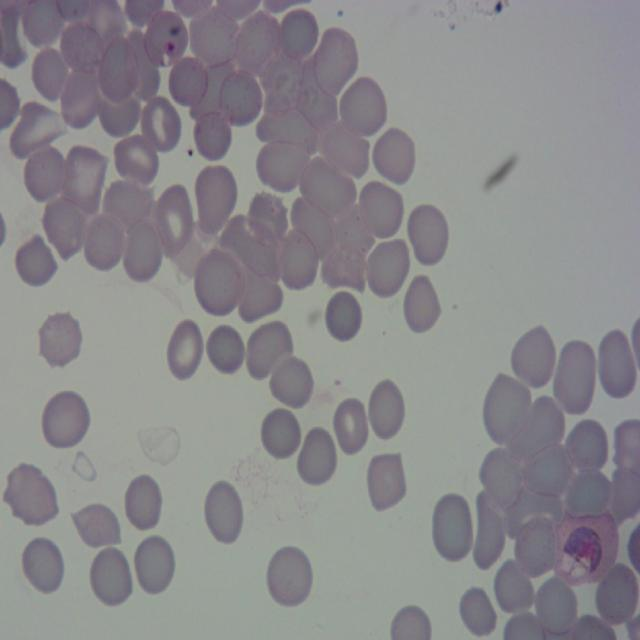leukocyte: (507, 394, 567, 463), (1, 459, 59, 528), (483, 371, 534, 447), (192, 244, 242, 319), (298, 153, 355, 216), (193, 162, 240, 238), (220, 214, 276, 277), (295, 53, 339, 132), (430, 491, 476, 564), (64, 142, 111, 213), (314, 24, 361, 94), (120, 212, 165, 285), (337, 76, 388, 140), (253, 108, 321, 156), (152, 185, 194, 262), (503, 486, 565, 538), (470, 490, 509, 572), (552, 342, 595, 416), (510, 324, 558, 390), (245, 319, 295, 382), (480, 444, 530, 507), (363, 237, 412, 301), (9, 102, 63, 160), (40, 387, 90, 449), (266, 544, 314, 608), (596, 328, 638, 401), (189, 8, 240, 68), (356, 179, 405, 241), (234, 262, 284, 322), (202, 478, 246, 546), (594, 564, 640, 629), (276, 225, 320, 292), (88, 545, 134, 609), (513, 515, 559, 579), (324, 116, 369, 181), (259, 49, 304, 114), (255, 140, 309, 194), (406, 202, 450, 268), (42, 199, 88, 262), (236, 8, 279, 75), (292, 192, 335, 259), (19, 535, 66, 596), (22, 144, 70, 203), (189, 59, 237, 118), (370, 126, 417, 186), (137, 95, 183, 156), (112, 130, 161, 187), (365, 376, 406, 444), (295, 425, 339, 488), (525, 442, 574, 498), (534, 575, 578, 637), (82, 210, 126, 272), (165, 317, 206, 383), (59, 68, 102, 130), (99, 78, 142, 140), (124, 28, 160, 102), (401, 272, 442, 336), (12, 231, 58, 288), (102, 180, 155, 229), (38, 312, 82, 371), (122, 473, 164, 534), (135, 535, 177, 596), (276, 7, 320, 65), (366, 449, 409, 508), (73, 502, 123, 552), (100, 35, 137, 102), (220, 71, 263, 128), (204, 323, 247, 378), (493, 559, 535, 615), (332, 396, 371, 456), (565, 422, 608, 476), (321, 244, 368, 293), (323, 288, 364, 344), (30, 46, 70, 102), (61, 21, 103, 73), (334, 204, 375, 257), (247, 190, 288, 242), (458, 585, 498, 638), (566, 471, 612, 517), (270, 356, 313, 405), (194, 109, 232, 162), (169, 59, 209, 105), (262, 409, 298, 457)
schizont: (550, 511, 619, 585)
